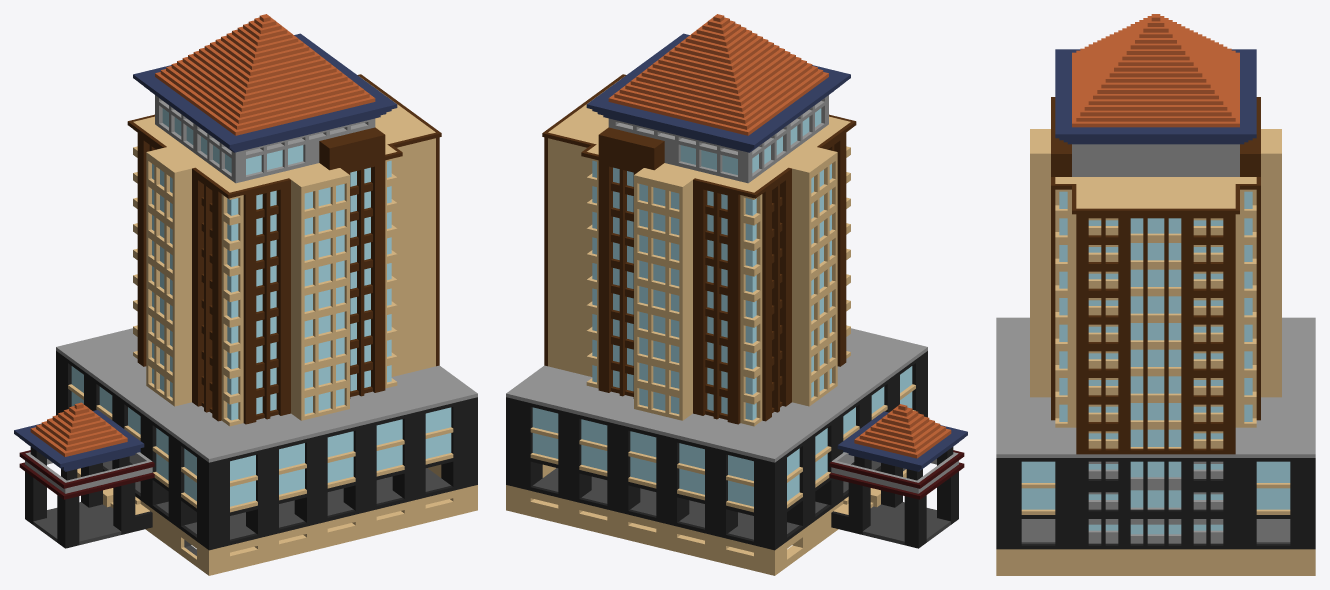
File: Gedung F.obj
The picture shows the model from 3 angles, left to right: view 1: azimuth 30°, elevation 25°; view 2: azimuth 150°, elevation 25°; view 3: azimuth 270°, elevation 25°; orthographic projection. The views are drawn at different scales.
Bounding box in the file's own units: 10.4 × 12.9 × 7.6.
1 material, 1 textured.
